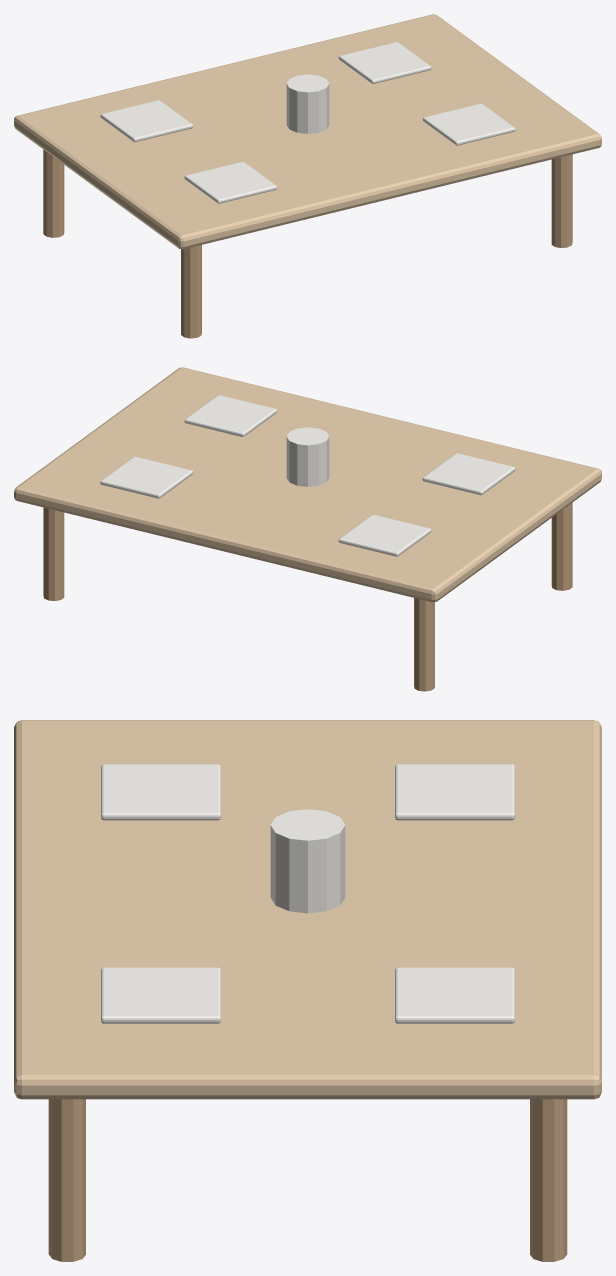
File: dining_table.glb
3 views of the same model, one above another, from view 1: azimuth 30°, elevation 25°; view 2: azimuth 150°, elevation 25°; view 3: azimuth 270°, elevation 25° (orthographic). The views are drawn at different scales.
Parts seen in each view (by area): view 1: DiningTable; view 2: DiningTable; view 3: DiningTable.
Part boxes in pixels (x1,y1,x2,y2): DiningTable: (14, 14, 601, 338); DiningTable: (14, 367, 601, 691); DiningTable: (14, 720, 601, 1261).
Bounding box in the file's own units: 3.2 × 1.12 × 2.2.
